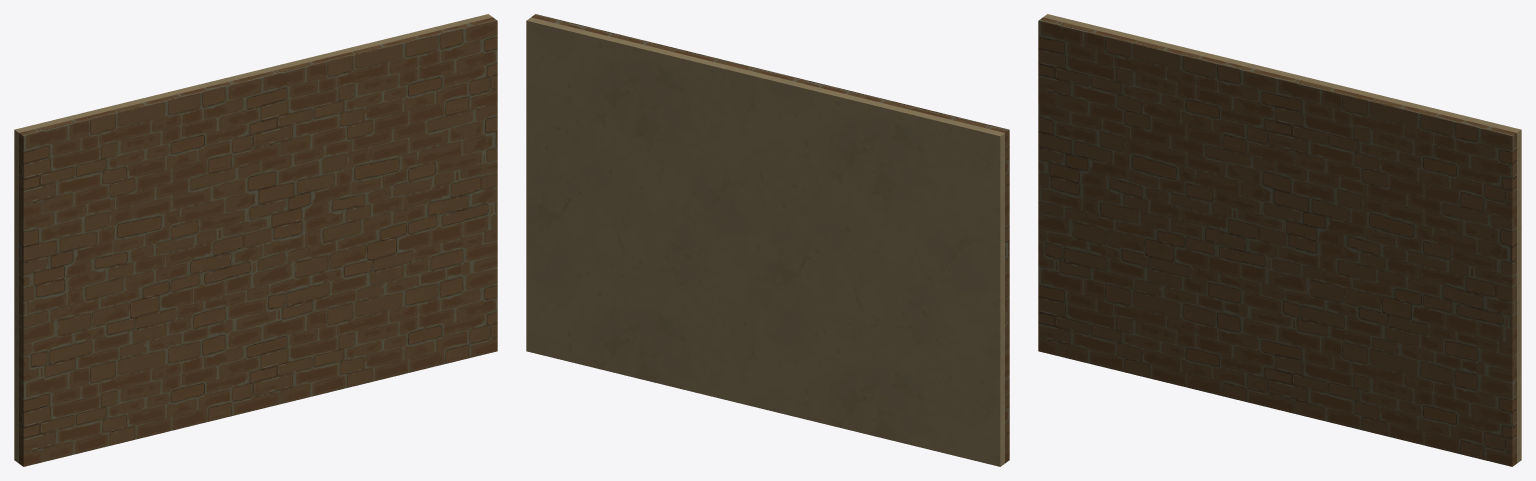
Rendered from SM_building_wall_22.glb.
The picture shows the model from 3 angles, left to right: view 1: azimuth 30°, elevation 25°; view 2: azimuth 150°, elevation 25°; view 3: azimuth 330°, elevation 25°; orthographic projection.
Visible parts, largest first — view 1: SM_building_wall_22; view 2: SM_building_wall_22; view 3: SM_building_wall_22.
Part boxes in pixels (x1,y1,x2,y2): SM_building_wall_22: [14, 14, 497, 466]; SM_building_wall_22: [526, 14, 1009, 466]; SM_building_wall_22: [1038, 14, 1521, 466].
Bounding box in the file's own units: 6 × 4 × 0.2.
Materials: 2 (2 with a texture image).
